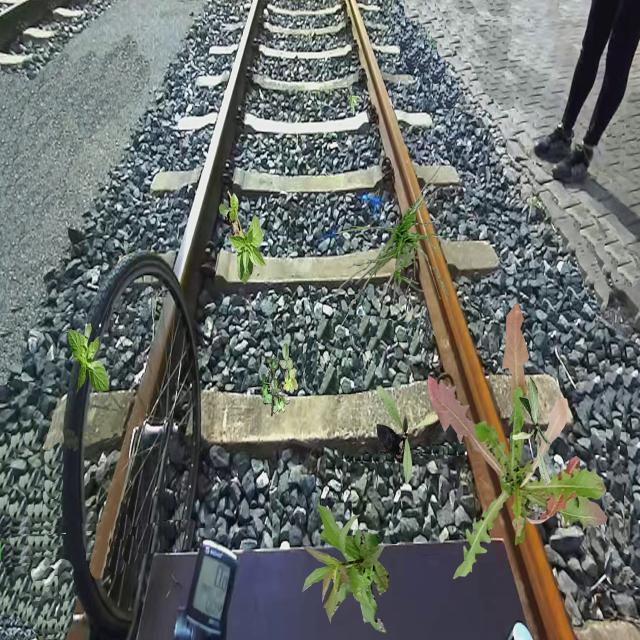Plant: (428, 301, 608, 579), (333, 164, 452, 328), (300, 504, 388, 634), (376, 385, 448, 484), (219, 190, 267, 285), (512, 377, 552, 487), (68, 323, 110, 394), (261, 343, 298, 416), (356, 565, 376, 598), (348, 95, 362, 116)
